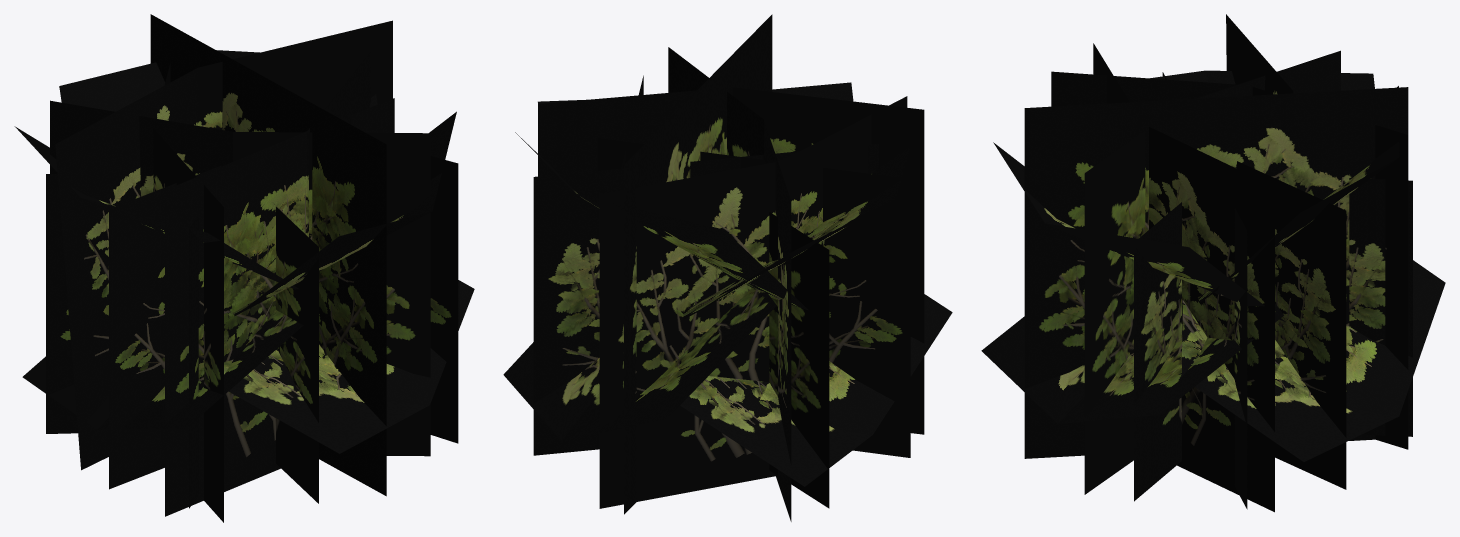
Rendered from Bush-03.fbx.
3 renders of one model, left to right at view 1: azimuth 30°, elevation 25°; view 2: azimuth 150°, elevation 25°; view 3: azimuth 270°, elevation 25°, orthographic.
Parts seen in each view (by area): view 1: Bush-03; view 2: Bush-03; view 3: Bush-03.
Boxes of the visible parts, <box> form: Bush-03: <box>14,14,474,522</box>; Bush-03: <box>503,14,952,521</box>; Bush-03: <box>981,14,1445,512</box>.
Size of the model in its own units: 117 by 102 by 122.
Materials: 2 (2 with a texture image).
